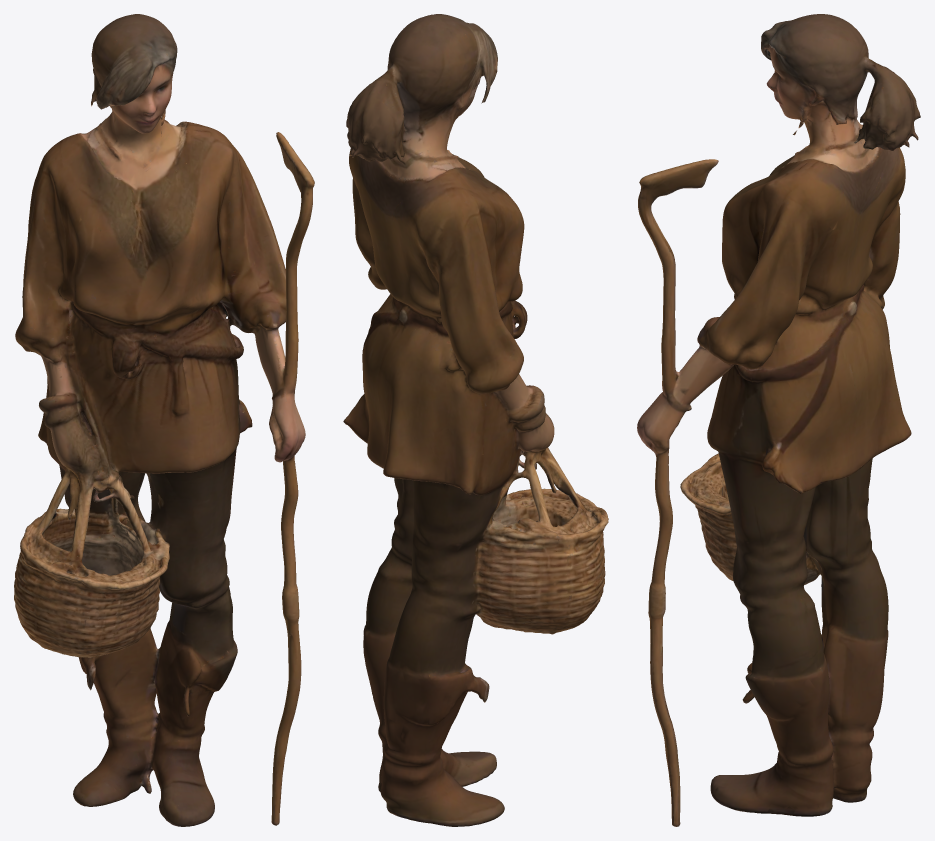
File: peasant1.glb
3 views of the same model, side by side, from view 1: azimuth 30°, elevation 25°; view 2: azimuth 150°, elevation 25°; view 3: azimuth 270°, elevation 25° (orthographic). The views are drawn at different scales.
Size of the model in its own units: 0.6599 by 1.99 by 0.6604.
Materials: 1 (1 with a texture image).
